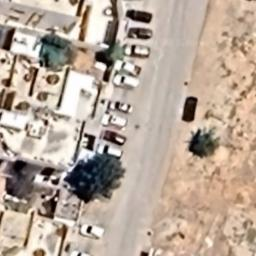SUV: (98, 109, 130, 131), (76, 220, 106, 242), (120, 40, 154, 59), (124, 24, 156, 41), (96, 144, 124, 162)
pickup: (114, 58, 148, 76)
unknown: (120, 6, 156, 26), (180, 92, 198, 126)
van: (111, 72, 141, 92), (99, 126, 129, 146)
